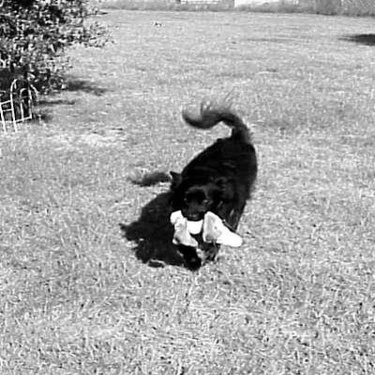dog: (162, 92, 260, 275)
